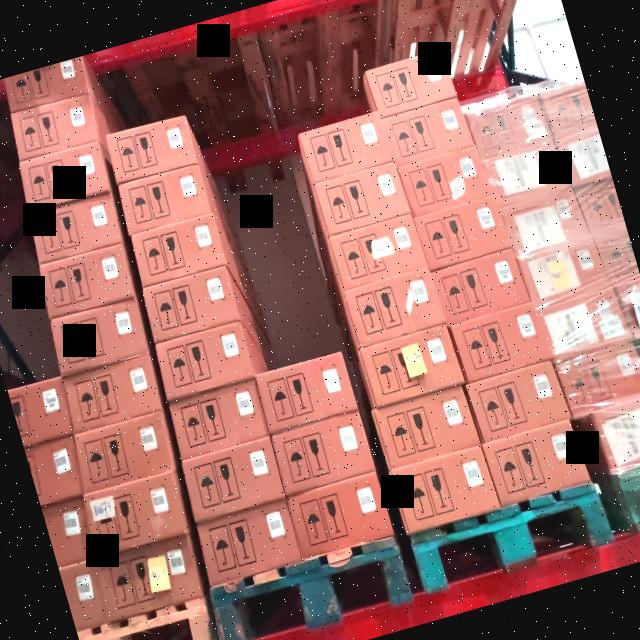box: (388, 444, 501, 534), (481, 418, 592, 508), (286, 471, 394, 559), (371, 386, 481, 470), (195, 500, 301, 586), (357, 324, 464, 409), (181, 435, 285, 522), (98, 535, 202, 622), (271, 411, 376, 497), (83, 473, 188, 558), (465, 360, 571, 442), (255, 350, 358, 433), (340, 265, 444, 347), (448, 301, 552, 383), (168, 377, 268, 459), (74, 411, 174, 492), (326, 213, 427, 293), (429, 245, 530, 324), (64, 354, 164, 433), (154, 321, 253, 400), (142, 266, 240, 345), (51, 300, 149, 376), (314, 161, 411, 237), (537, 287, 632, 363), (296, 111, 393, 185), (413, 197, 511, 270), (39, 243, 134, 318), (396, 145, 492, 217), (132, 214, 227, 286), (515, 236, 610, 307), (29, 192, 121, 265), (554, 341, 640, 418), (18, 140, 109, 212), (118, 164, 211, 234), (364, 48, 457, 118), (107, 115, 198, 185), (498, 187, 590, 256), (380, 96, 474, 163), (11, 94, 98, 162), (481, 143, 570, 207), (465, 96, 552, 159), (588, 398, 640, 471)
